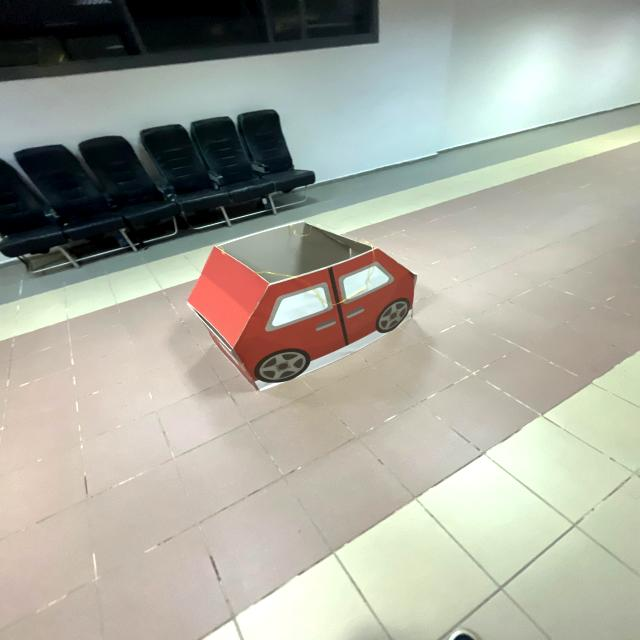red_car: (183, 212, 446, 400)
